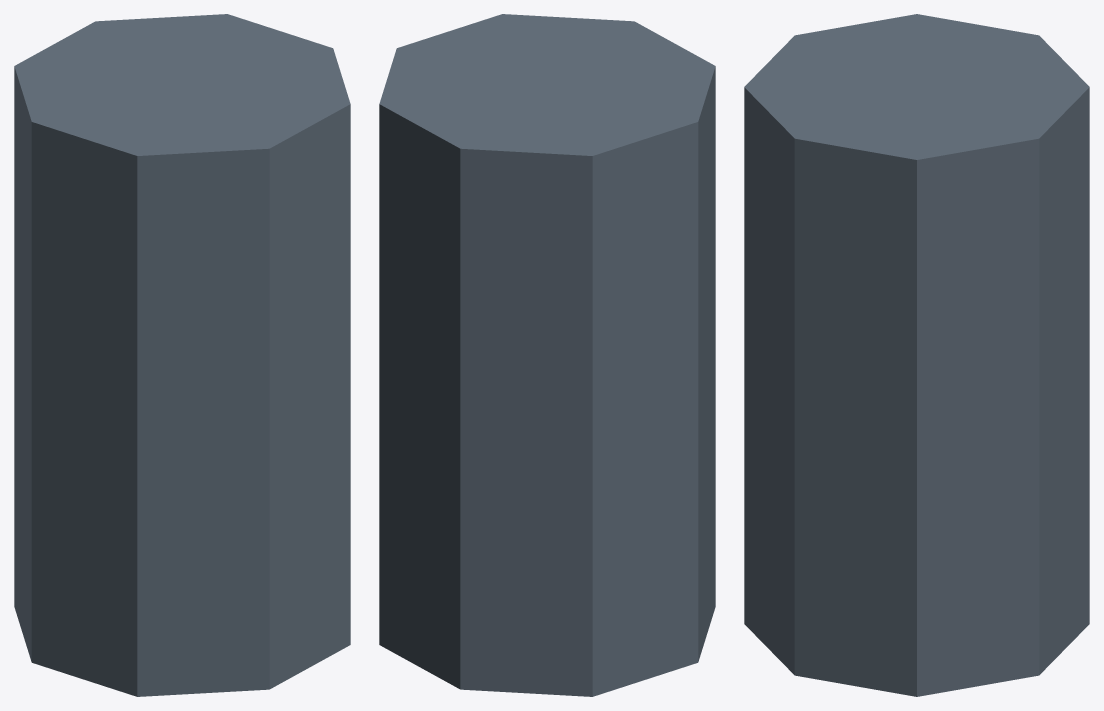
Rendered from Column04.fbx.
3 views of the same model, side by side, from view 1: azimuth 30°, elevation 25°; view 2: azimuth 150°, elevation 25°; view 3: azimuth 270°, elevation 25° (orthographic).
Visible parts, largest first — view 1: Column04; view 2: Column04; view 3: Column04.
Boxes of the visible parts, x1=… form: Column04: x1=14, y1=14, x2=350, y2=696; Column04: x1=379, y1=14, x2=715, y2=696; Column04: x1=744, y1=14, x2=1089, y2=696.
Size of the model in its own units: 28 by 48 by 28.
1 material, 1 textured.
